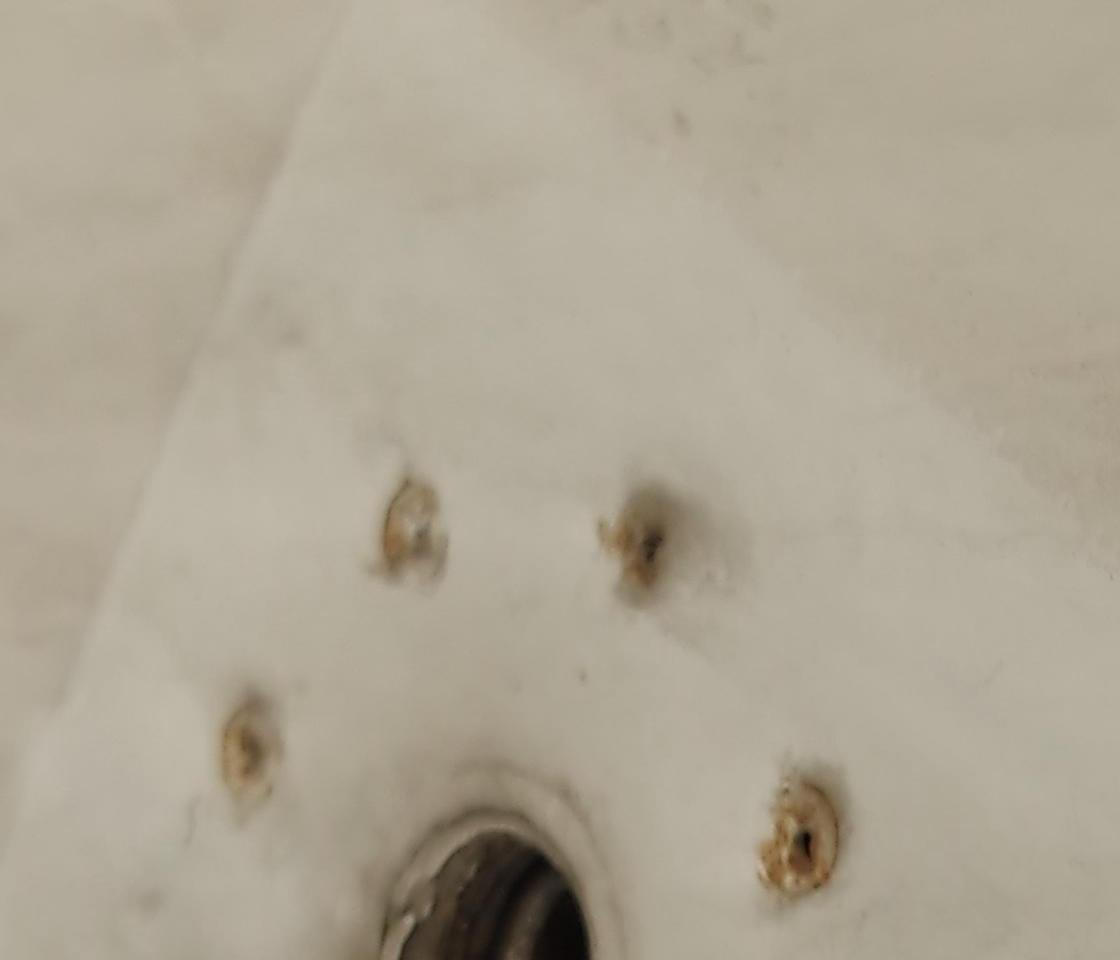rust: (764, 781, 828, 897), (606, 518, 669, 590), (377, 479, 419, 581)
